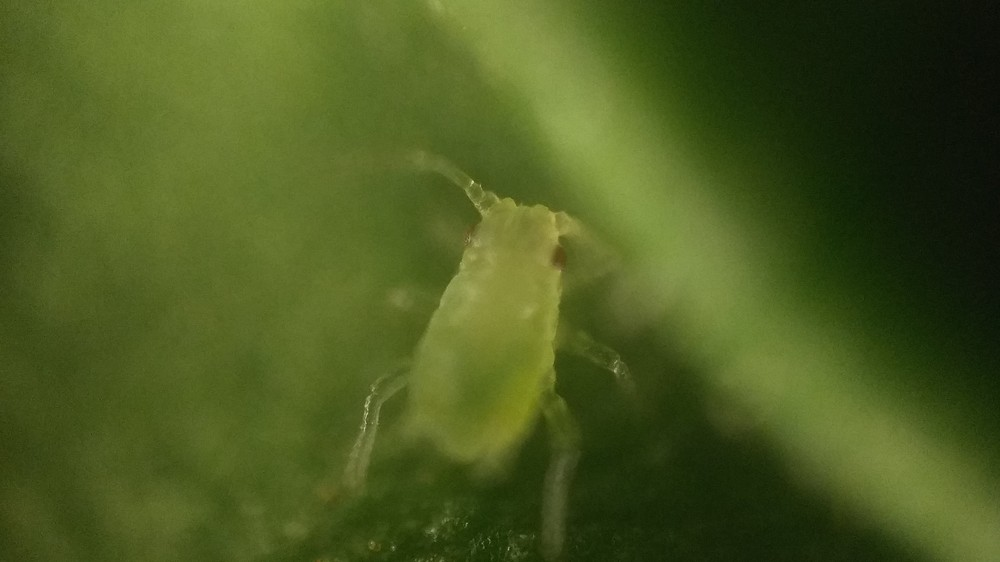Pulgon: (254, 135, 691, 556)
